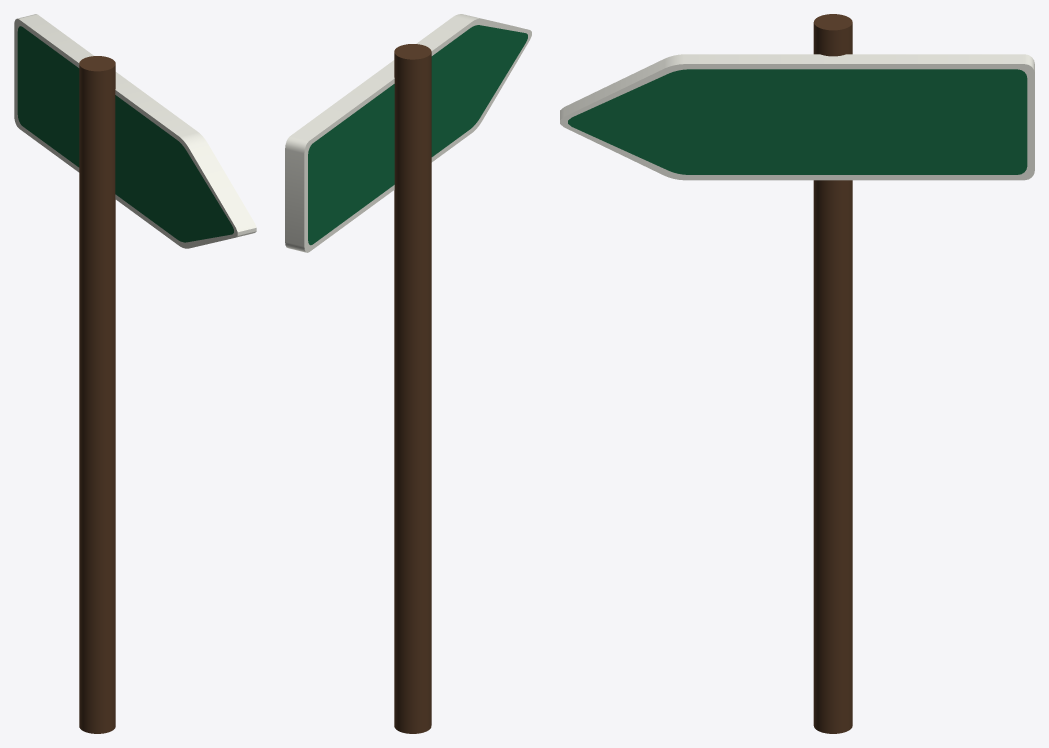
The model's file is trail_sign.fbx.
3 renders of one model, left to right at view 1: azimuth 30°, elevation 25°; view 2: azimuth 150°, elevation 25°; view 3: azimuth 270°, elevation 25°, orthographic. The views are drawn at different scales.
Parts seen in each view (by area): view 1: Cylinder, Cube, Cube.001; view 2: Cylinder, Cube, Cube.001; view 3: Cube, Cylinder, Cube.001.
Part boxes in pixels (x1,y1,x2,y2): Cylinder: (79, 56, 115, 733); Cube: (17, 26, 233, 242); Cube.001: (14, 14, 256, 248); Cylinder: (394, 44, 431, 733); Cube: (308, 25, 527, 245); Cube.001: (285, 14, 531, 252); Cube: (568, 69, 1027, 174); Cylinder: (813, 14, 852, 733); Cube.001: (560, 54, 1034, 180).
Bounding box in the file's own units: 29.38 × 400 × 245.
